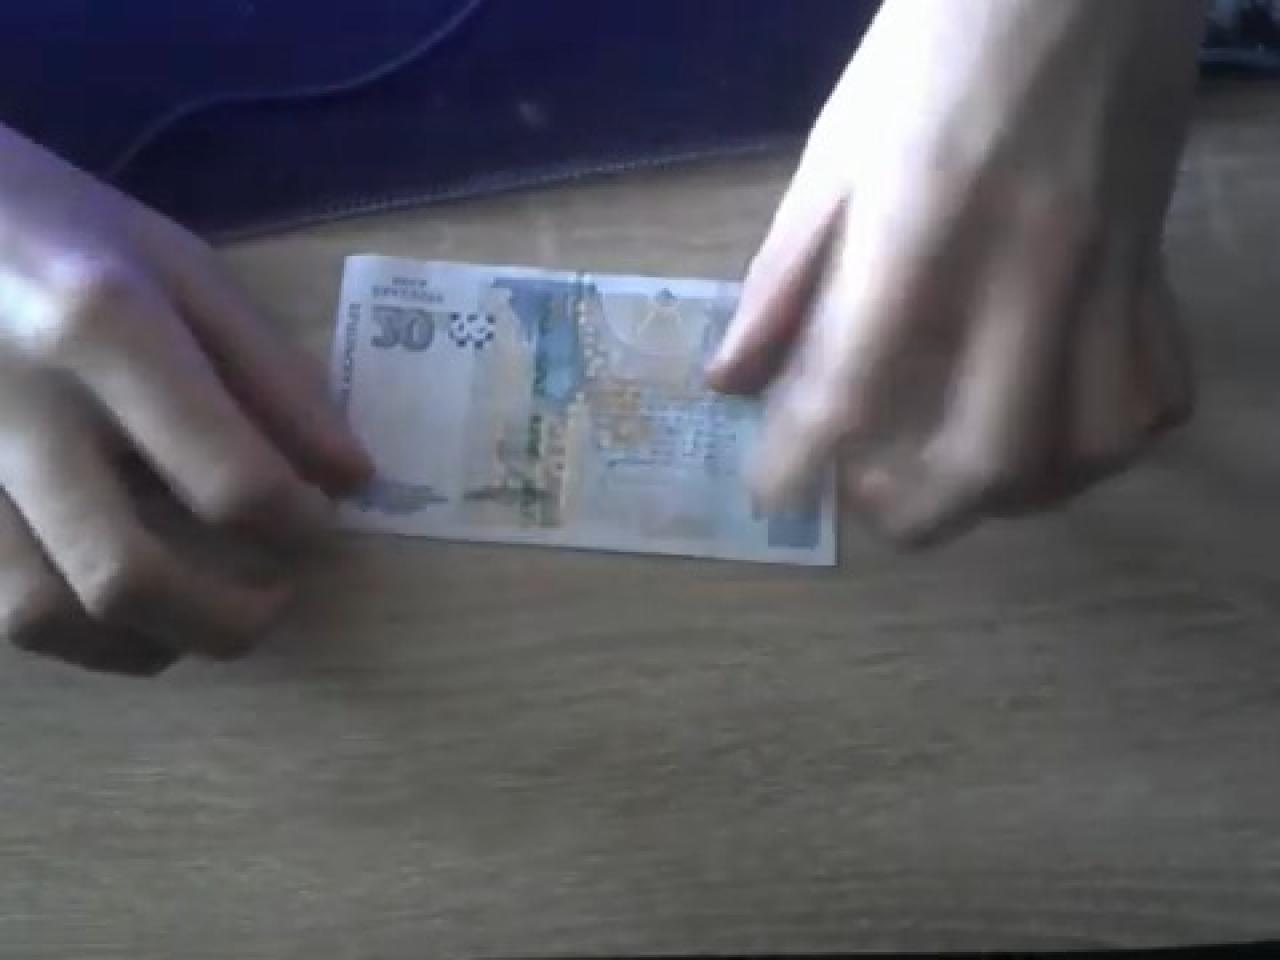20leva: (328, 253, 835, 568)
